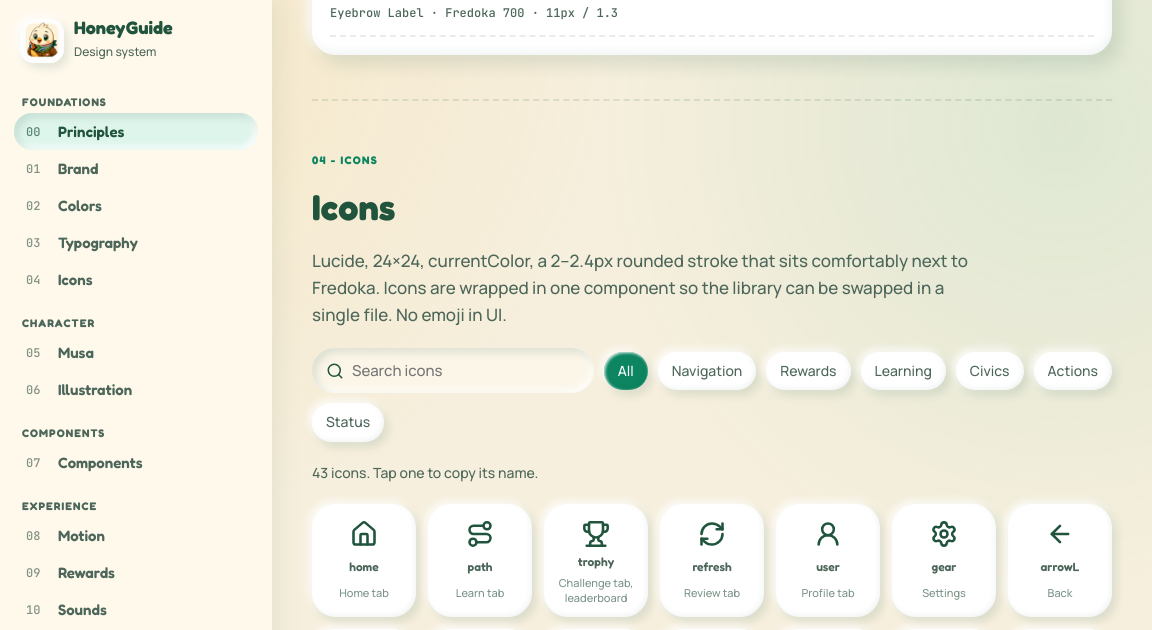
icon gallery › filters by search text and by category
(page scrolled)
Type "streak" into the search field labelled "Search icons" at point(466, 371), box [352,348,580,393]
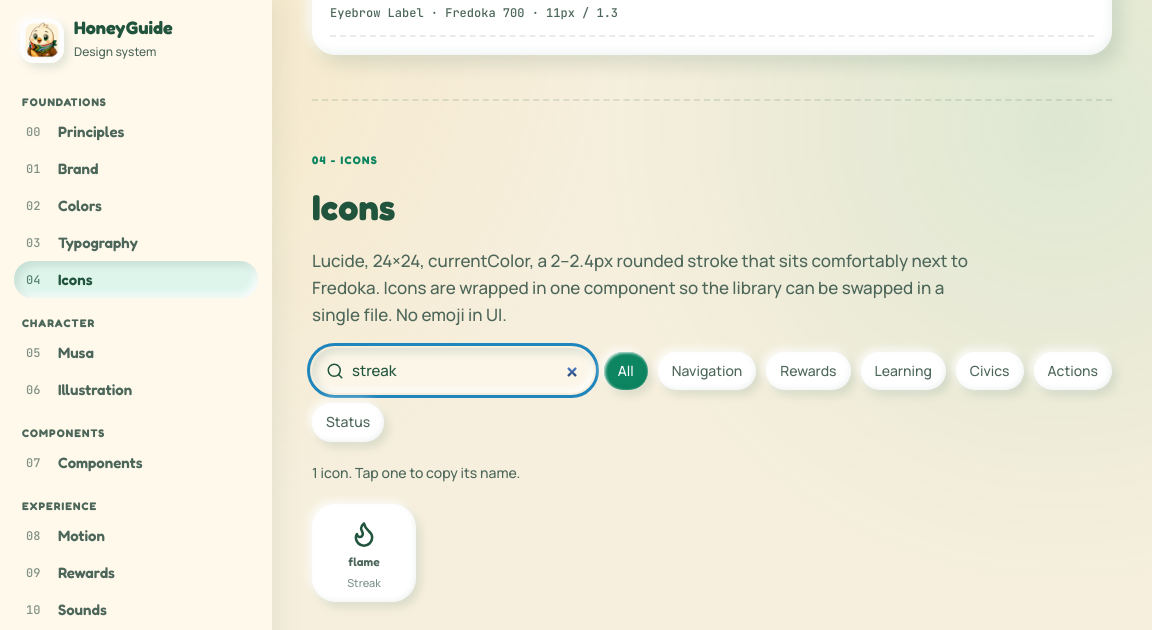
Now the number of buttons named "Copy name" is 1, box [312,504,416,602]
Clear the search field at point(466, 371), box [352,348,580,393]
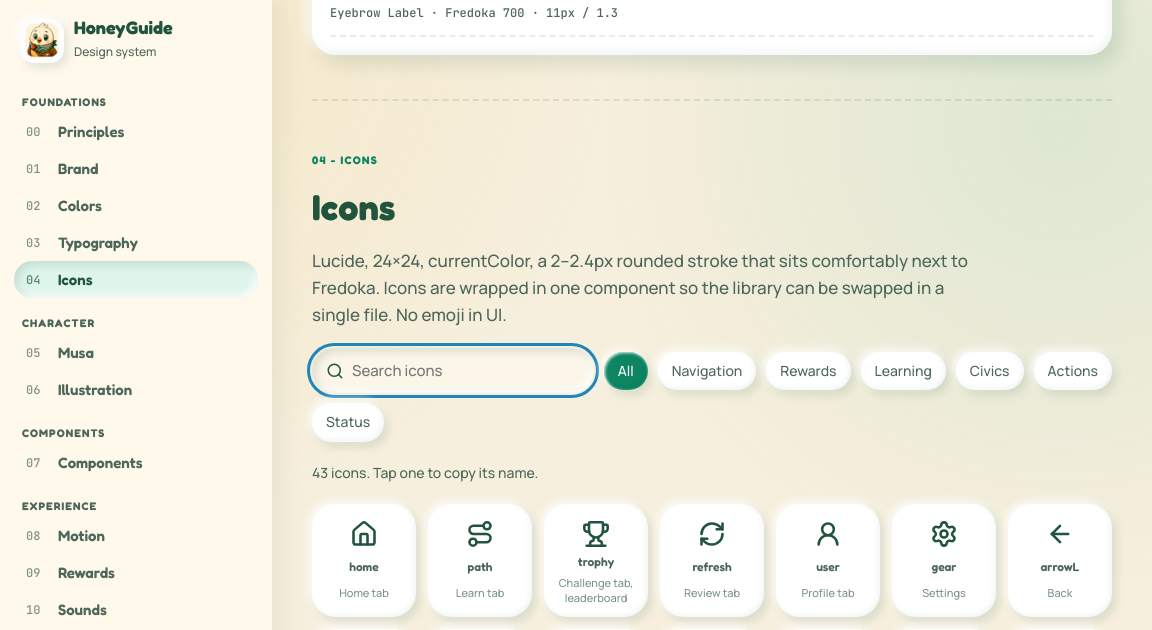
Click the button "Civics" at point(990, 371), box [956,352,1024,390]
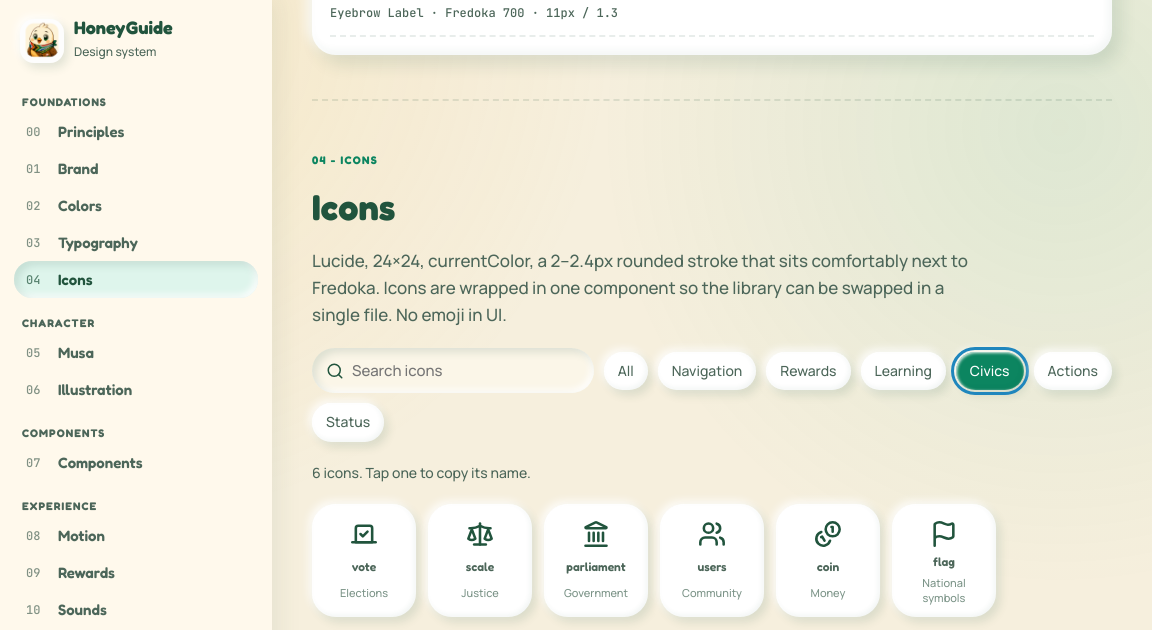
Now the number of buttons named "Copy name" is 6, box [312,504,416,617]; [428,504,532,617]; [544,504,648,617]; [660,504,764,617]; [776,504,880,617]; [892,504,996,617]
